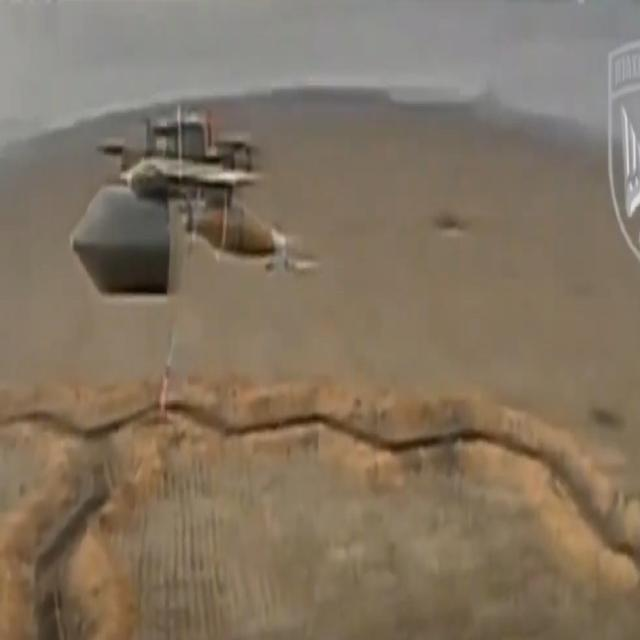drone: (67, 102, 299, 321)
